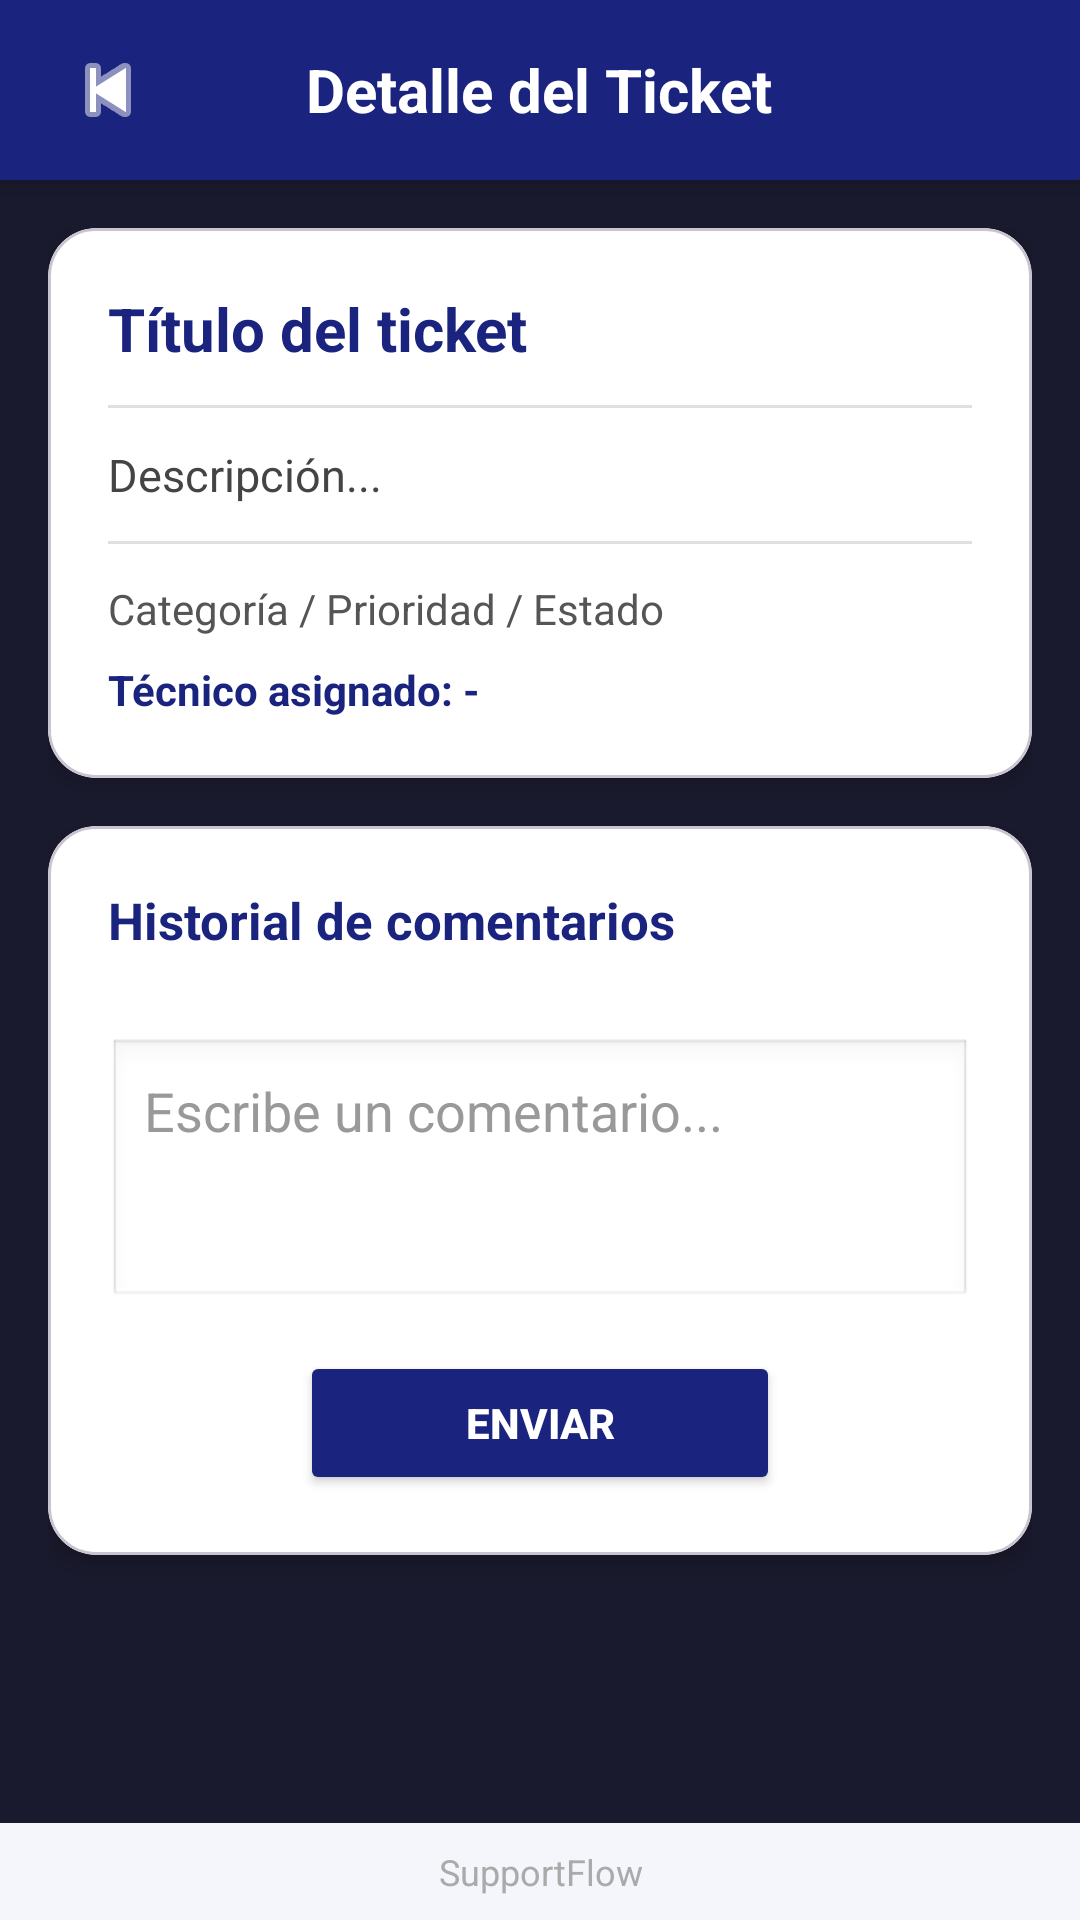

Where to tap for icons on this 1080x1920 app screen, as (x=x, y=y):
Regresar: (x=108, y=90)
